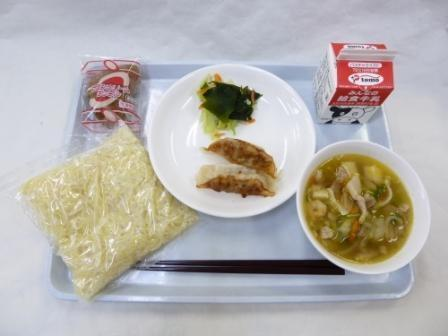Milk: (311, 39, 397, 125)
Salad: (189, 80, 264, 135)
pasta: (22, 135, 184, 288)
tushpara-fried: (189, 132, 285, 207)
vegetable soup: (296, 153, 419, 271)
